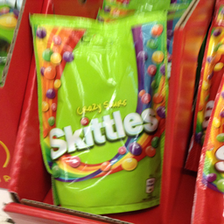candy: (30, 8, 170, 216)
